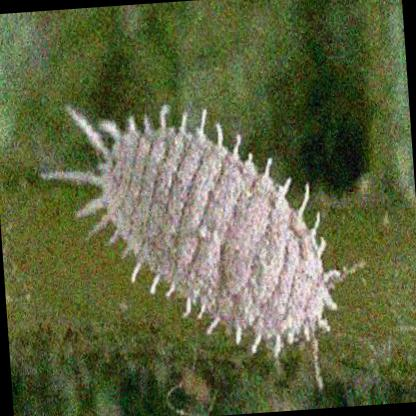mealy bug: (45, 110, 328, 352)
